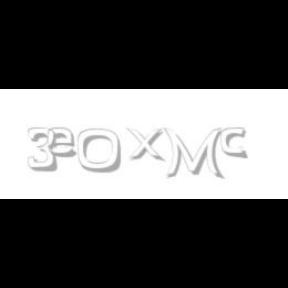3: (28, 128, 58, 172)
M: (163, 128, 222, 180)
O: (78, 128, 122, 174)
c: (220, 128, 250, 160)
e: (48, 128, 80, 158)
x: (126, 128, 168, 162)
